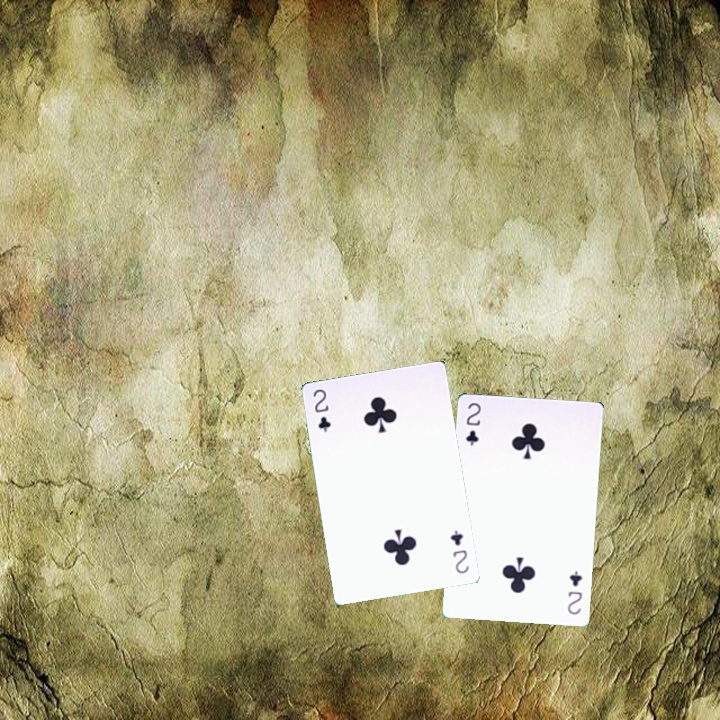2c: (446, 526, 471, 576), (309, 385, 334, 435), (563, 567, 585, 617), (462, 399, 483, 448)
